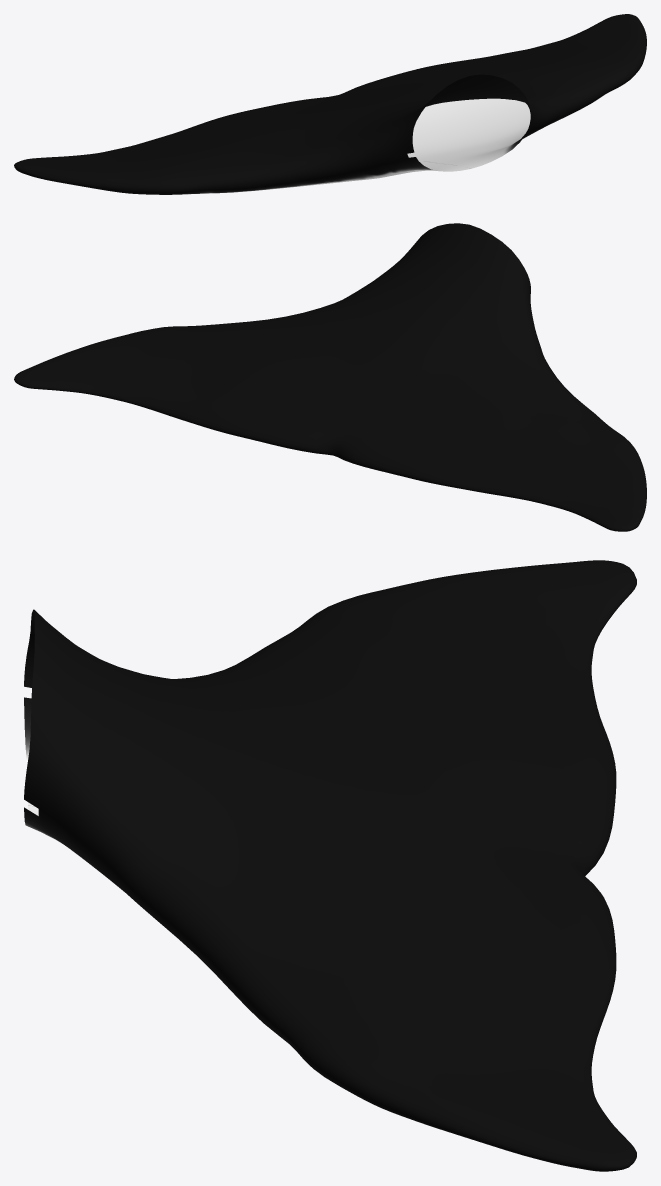
The model's file is colaOrca.obj.
The picture shows the model from 3 angles, top to bottom: view 1: azimuth 30°, elevation 25°; view 2: azimuth 150°, elevation 25°; view 3: azimuth 270°, elevation 25°; orthographic projection. The views are drawn at different scales.
Parts seen in each view (by area): view 1: colaOrca; view 2: colaOrca; view 3: colaOrca.
Part boxes in pixels (box(x1,y1,x2,y2)): colaOrca: box(14, 14, 646, 194); colaOrca: box(14, 223, 646, 531); colaOrca: box(24, 560, 636, 1171).
Bounding box in the file's own units: 17.86 × 3.72 × 7.65.
